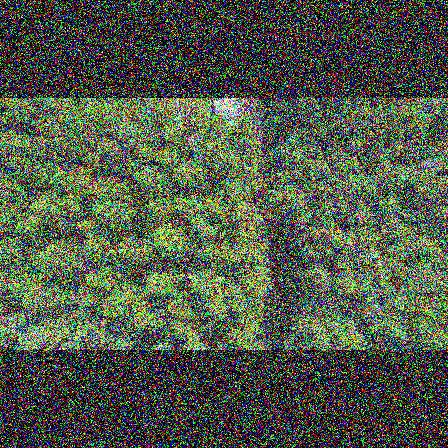Dead: (418, 156, 446, 176), (184, 133, 205, 153), (401, 146, 422, 163)
